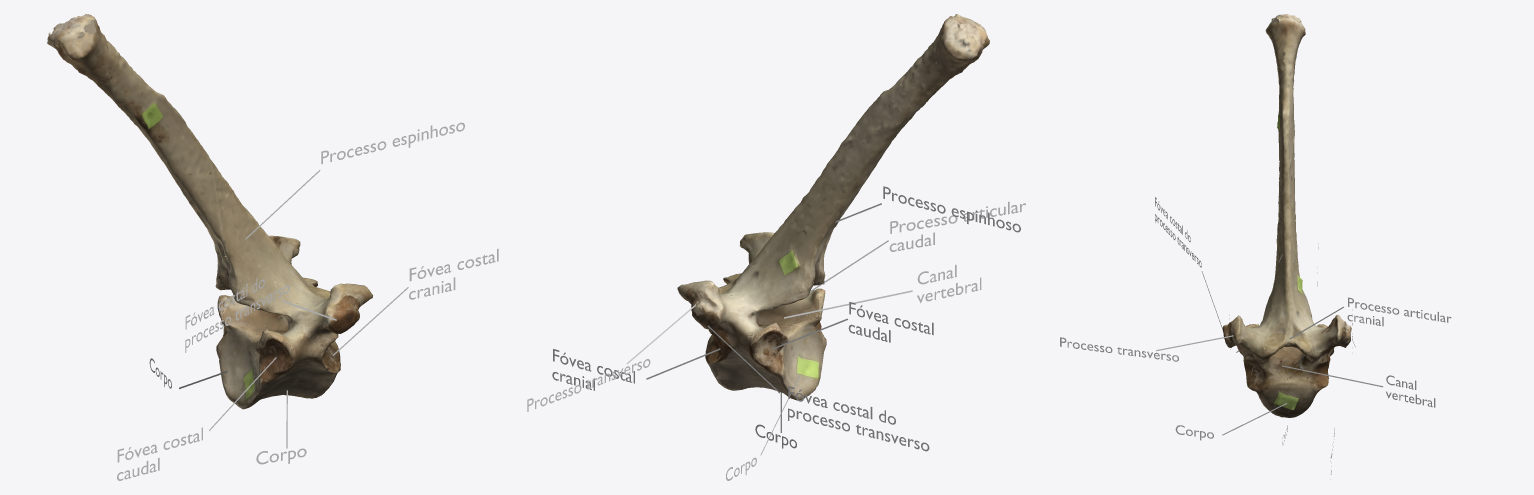
File: 8ª_Vértebra_Torácica.glb
3 renders of one model, left to right at view 1: azimuth 30°, elevation 25°; view 2: azimuth 150°, elevation 25°; view 3: azimuth 270°, elevation 25°, orthographic. The views are drawn at different scales.
Visible parts, largest first — view 1: 3DModel_LowPoly.001, Texto.026, Texto.004, Texto.024, Texto.022; view 2: 3DModel_LowPoly.001, Texto.006, Texto.077, Texto.002, Texto.017, Texto.019, Texto.013, Texto.015; view 3: 3DModel_LowPoly.001, Texto.033.
Part boxes in pixels (box(x1,y1,x2,y2)): 3DModel_LowPoly.001: box(47, 14, 372, 409); Texto.026: box(185, 278, 289, 352); Texto.004: box(321, 122, 464, 164); Texto.024: box(409, 248, 498, 299); Texto.022: box(117, 427, 202, 480); 3DModel_LowPoly.001: box(677, 14, 989, 400); Texto.006: box(788, 386, 929, 451); Texto.077: box(889, 201, 1025, 251); Texto.002: box(883, 186, 1020, 232); Texto.017: box(848, 302, 933, 342); Texto.019: box(527, 359, 650, 411); Texto.013: box(552, 349, 634, 390); Texto.015: box(917, 264, 981, 303); 3DModel_LowPoly.001: box(1222, 14, 1351, 417); Texto.033: box(1347, 297, 1451, 326).
Bounding box in the file's own units: 2.77 × 2.83 × 3.27.
Materials: 1 (1 with a texture image).
